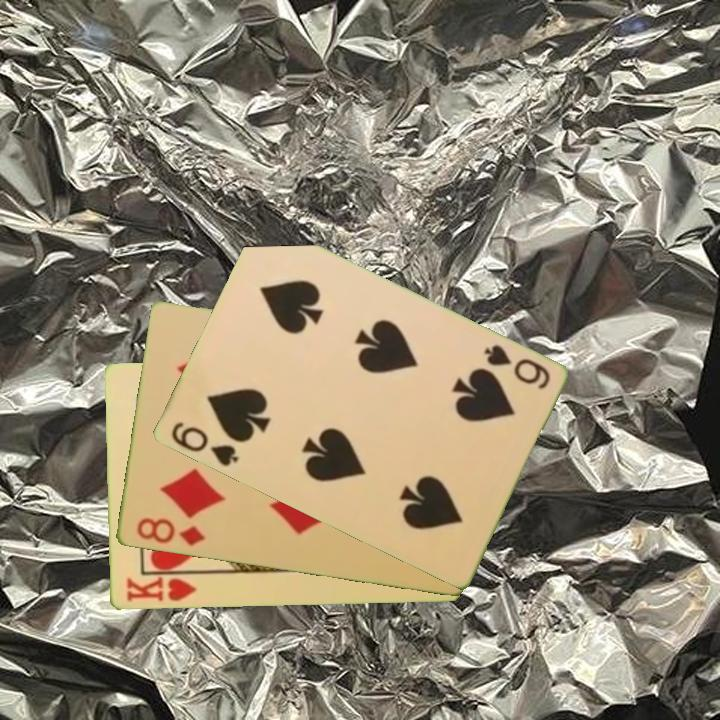6s: (167, 418, 241, 470), (479, 341, 553, 393)
8d: (132, 514, 207, 549)
Kh: (123, 570, 203, 605)
